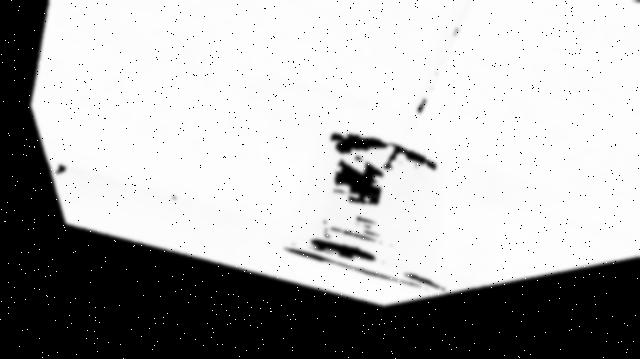pot: (271, 133, 447, 295)
